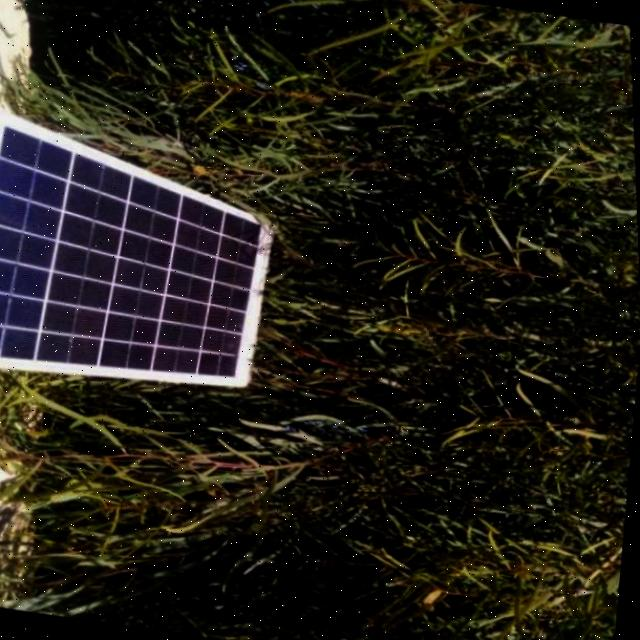Normal Solar Panel: (1, 114, 292, 404)
